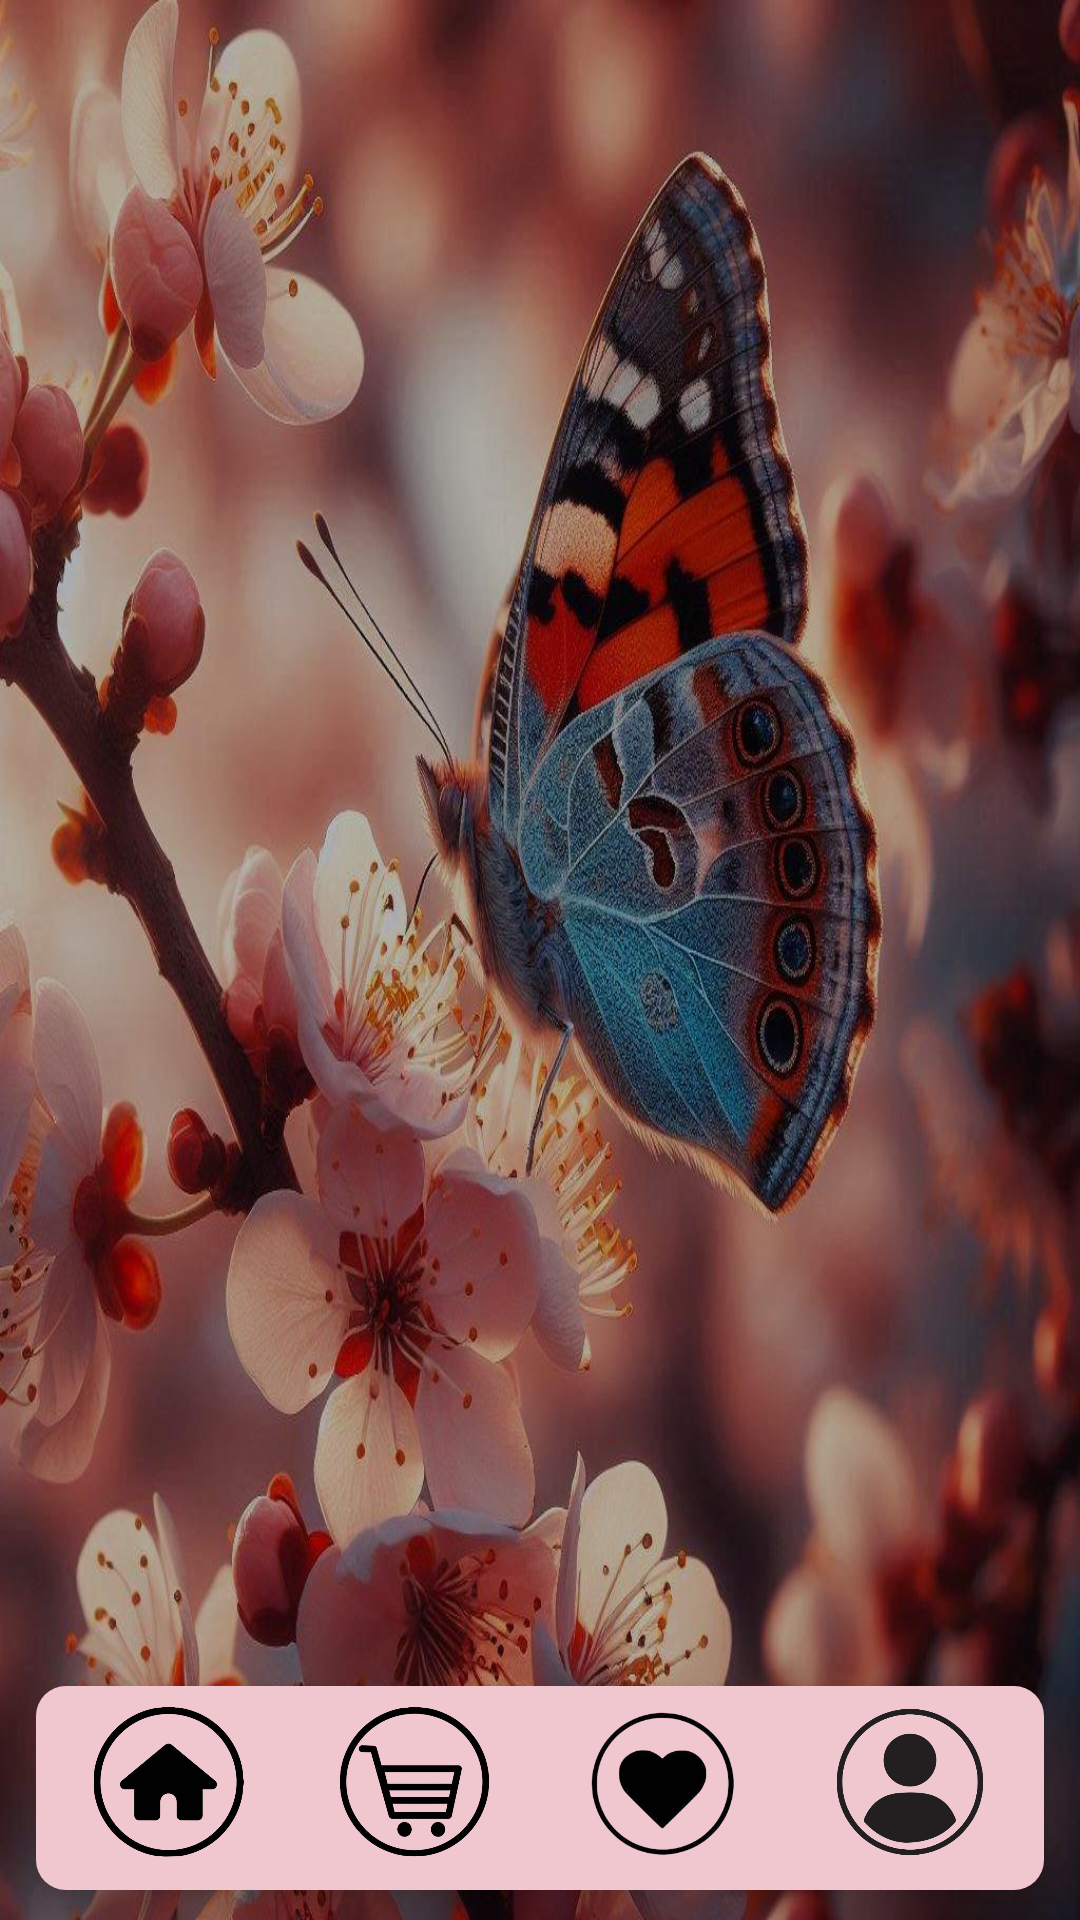

Icon click points for this 1080px x 1920px phone screenshot, format point (x, y):
cart: point (414, 1781)
heart: point (662, 1783)
home: point (169, 1782)
user: point (910, 1782)
